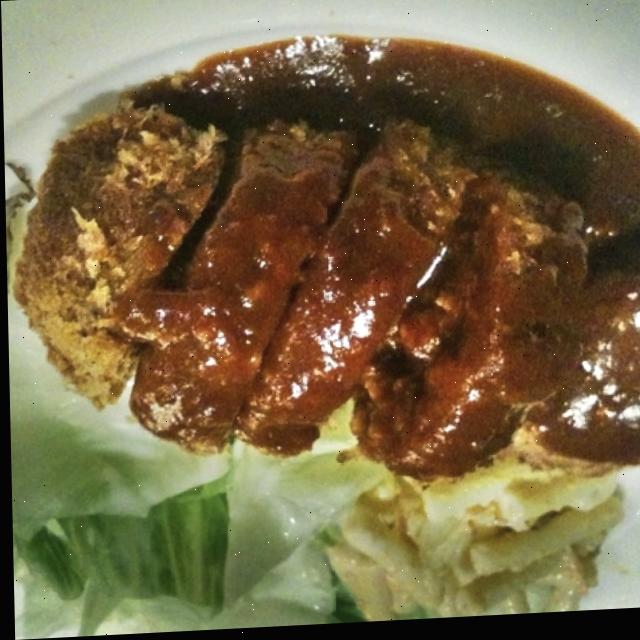炸货点心: (13, 52, 640, 589)
